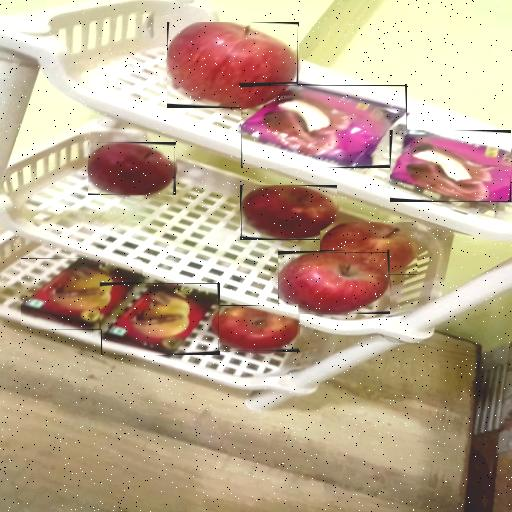Apple: (167, 22, 298, 107), (279, 253, 389, 313), (242, 185, 337, 239), (321, 222, 417, 275), (88, 143, 175, 195), (211, 307, 299, 351)
Choco Fills: (21, 258, 142, 330), (103, 284, 219, 354)
Choco Pie: (241, 86, 407, 166), (390, 130, 511, 201)
